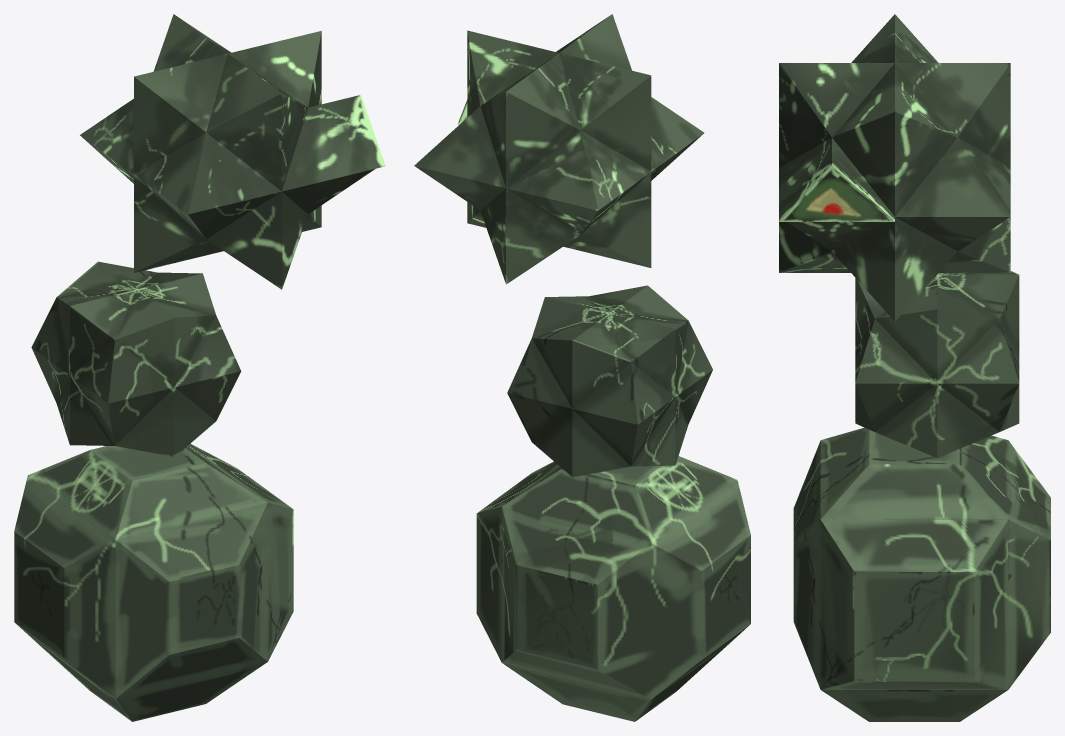
The model's file is golem_standing_1.obj.
3 views of the same model, side by side, from view 1: azimuth 30°, elevation 25°; view 2: azimuth 150°, elevation 25°; view 3: azimuth 270°, elevation 25° (orthographic). The views are drawn at different scales.
Parts seen in each view (by area): view 1: Cube; view 2: Cube; view 3: Cube.
Part boxes in pixels (box(x1,y1,x2,y2)): Cube: box(14, 14, 385, 721); Cube: box(414, 14, 750, 721); Cube: box(779, 14, 1050, 721).
Size of the model in its own units: 3.72 by 7.95 by 2.89.
Materials: 1 (1 with a texture image).
